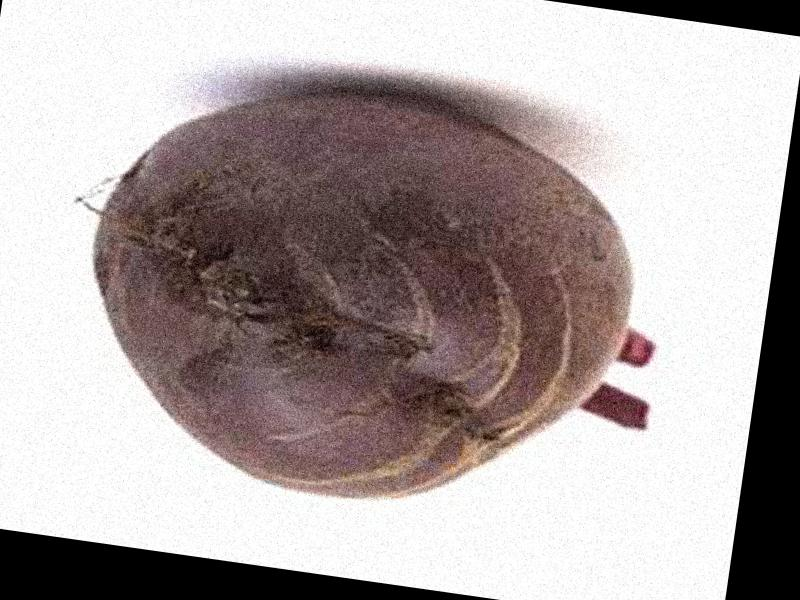Beet: (62, 49, 683, 541)
